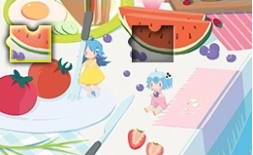gap: (128, 25, 173, 62)
